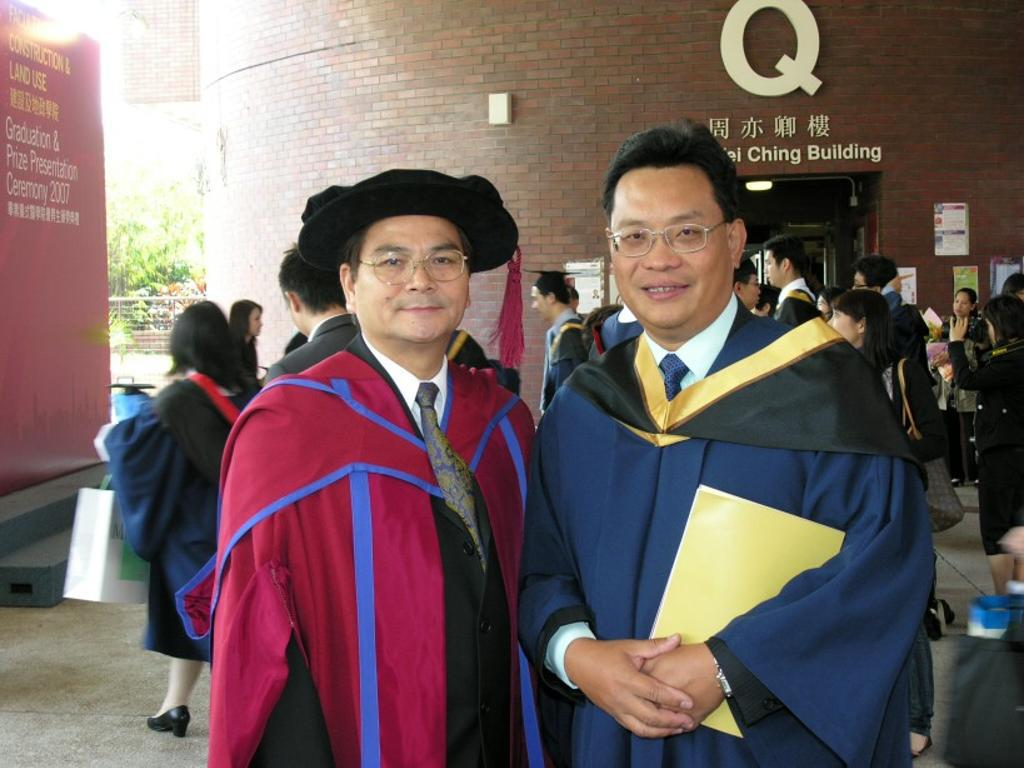face: (612, 162, 729, 329), (356, 211, 469, 345), (827, 305, 857, 347), (764, 245, 783, 288), (742, 273, 762, 310), (531, 285, 549, 323), (954, 291, 971, 318), (852, 271, 872, 293), (250, 309, 264, 337), (985, 319, 995, 346), (817, 295, 830, 314), (1014, 284, 1024, 304), (569, 298, 579, 313)
